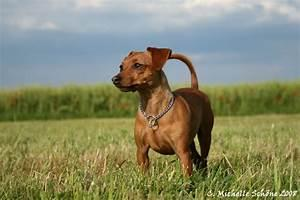dog: (111, 46, 214, 184)
